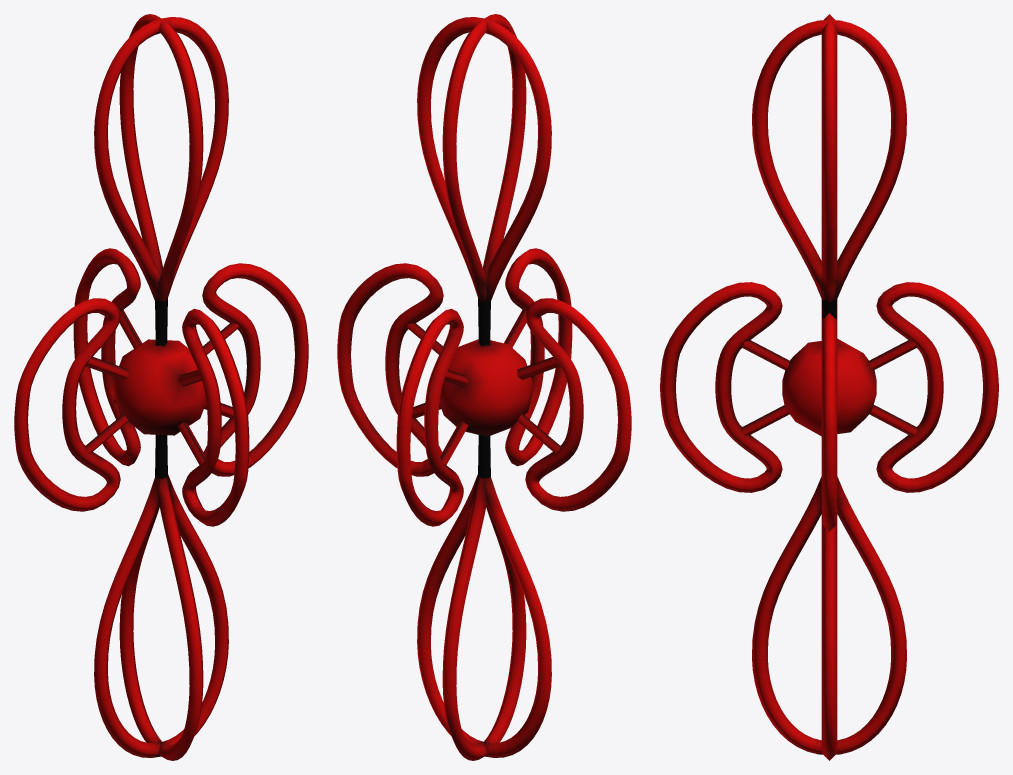
The model's file is TowerTop_export.obj.
3 views of the same model, side by side, from view 1: azimuth 30°, elevation 25°; view 2: azimuth 150°, elevation 25°; view 3: azimuth 270°, elevation 25° (orthographic).
Parts seen in each view (by area): view 1: TowerTop; view 2: TowerTop; view 3: TowerTop.
Part boxes in pixels (x1,y1,x2,y2): TowerTop: (14,14,308,760); TowerTop: (337,14,631,760); TowerTop: (660,14,998,760).
Bounding box in the file's own units: 2.04 × 4.9 × 2.04.
